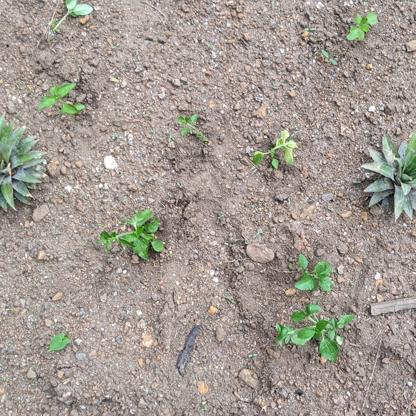pineapple: (360, 130, 416, 227), (1, 111, 47, 214)
weed: (271, 302, 359, 359), (100, 209, 168, 264), (250, 127, 301, 171), (36, 80, 89, 120), (294, 251, 334, 297), (344, 10, 380, 45), (172, 110, 208, 141)
